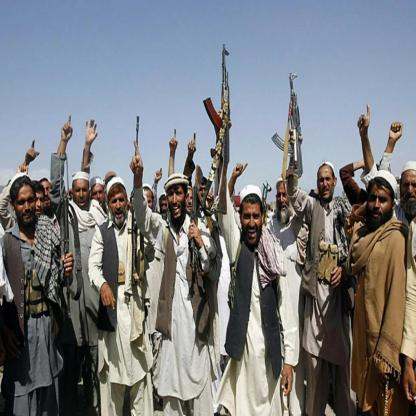rifle: (203, 38, 234, 217), (270, 70, 304, 182), (57, 161, 79, 298), (181, 179, 212, 275)
